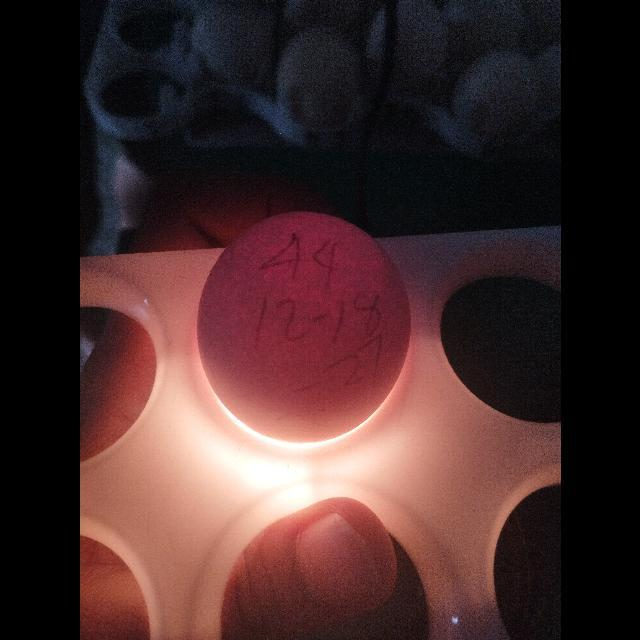Infertile: (191, 208, 415, 456)
